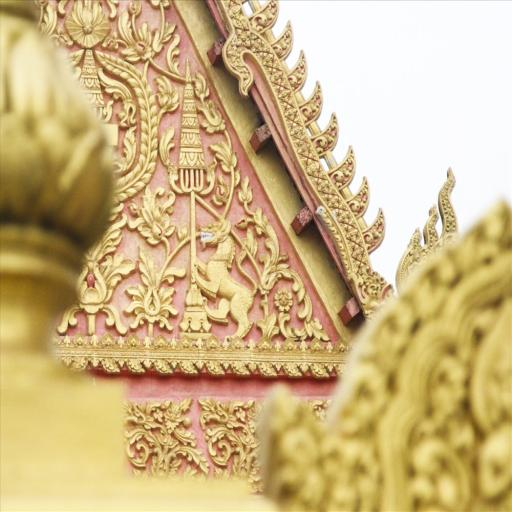hoa: (274, 286, 293, 313)
la: (122, 399, 210, 480), (203, 389, 263, 482), (129, 253, 179, 332), (132, 187, 177, 242), (66, 0, 112, 50), (279, 309, 331, 344), (120, 16, 153, 62), (290, 267, 314, 320), (102, 252, 135, 288), (212, 135, 242, 172), (198, 100, 230, 132), (156, 75, 179, 113), (160, 118, 176, 168), (166, 32, 182, 74), (260, 309, 280, 341), (240, 228, 258, 256), (195, 69, 209, 103), (239, 178, 253, 209), (162, 20, 177, 44)
lua: (325, 135, 356, 189), (310, 109, 340, 160), (298, 78, 324, 128), (362, 205, 387, 255), (249, 0, 281, 36), (348, 172, 372, 217), (284, 47, 308, 90), (272, 20, 295, 62)
ran: (265, 196, 512, 512), (396, 162, 462, 284)
